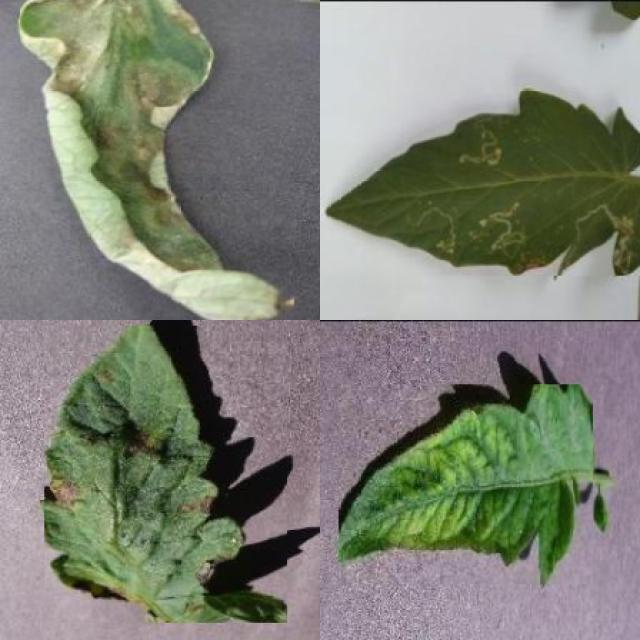Early Blight: (45, 326, 288, 623)
Late Blight: (19, 0, 294, 320)
Leaf Miner: (324, 86, 640, 276)
Mosaic Virus: (339, 385, 594, 585)
